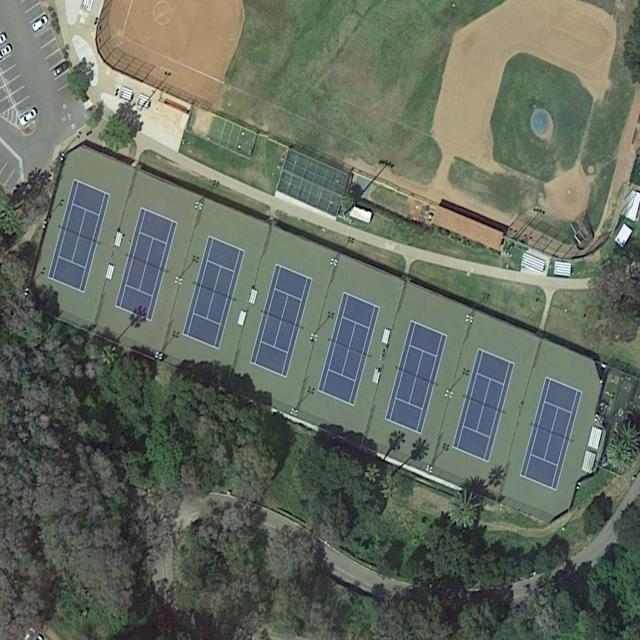small-vehicle: (31, 14, 50, 33), (20, 107, 38, 126), (53, 62, 69, 77)
